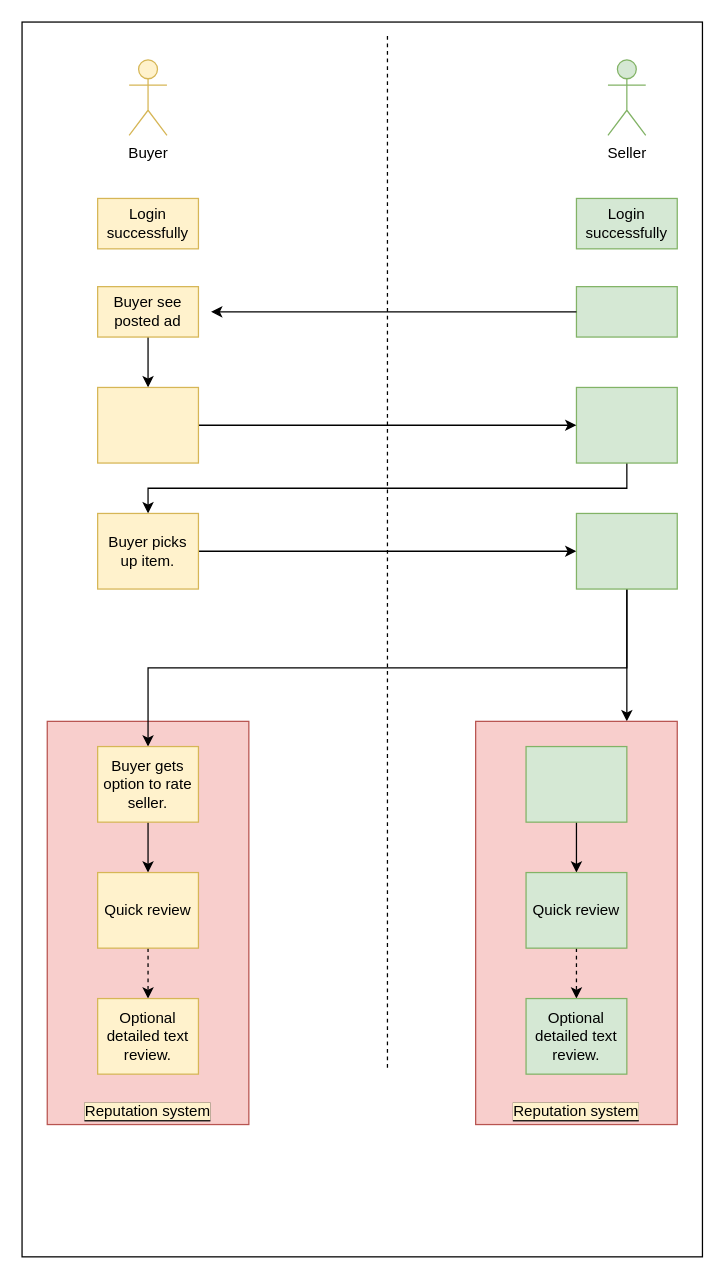
The diagram is 725 pixels wide and 1279 high, and some of its shapes have lost their labels. The centre of each missing label's shape, as x and y in pixels:
Buyer launches purchase request.: [147,424]
Post ad: [626,311]
Seller approves purchase request.: [626,424]
Seller gets to operate buyer.: [576,783]
Seller marks item as sold.: [626,550]
